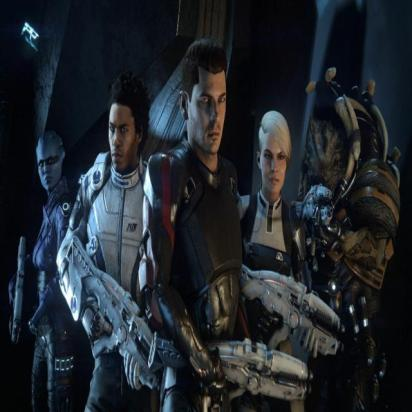Gun: (61, 231, 160, 407), (148, 325, 314, 412)
